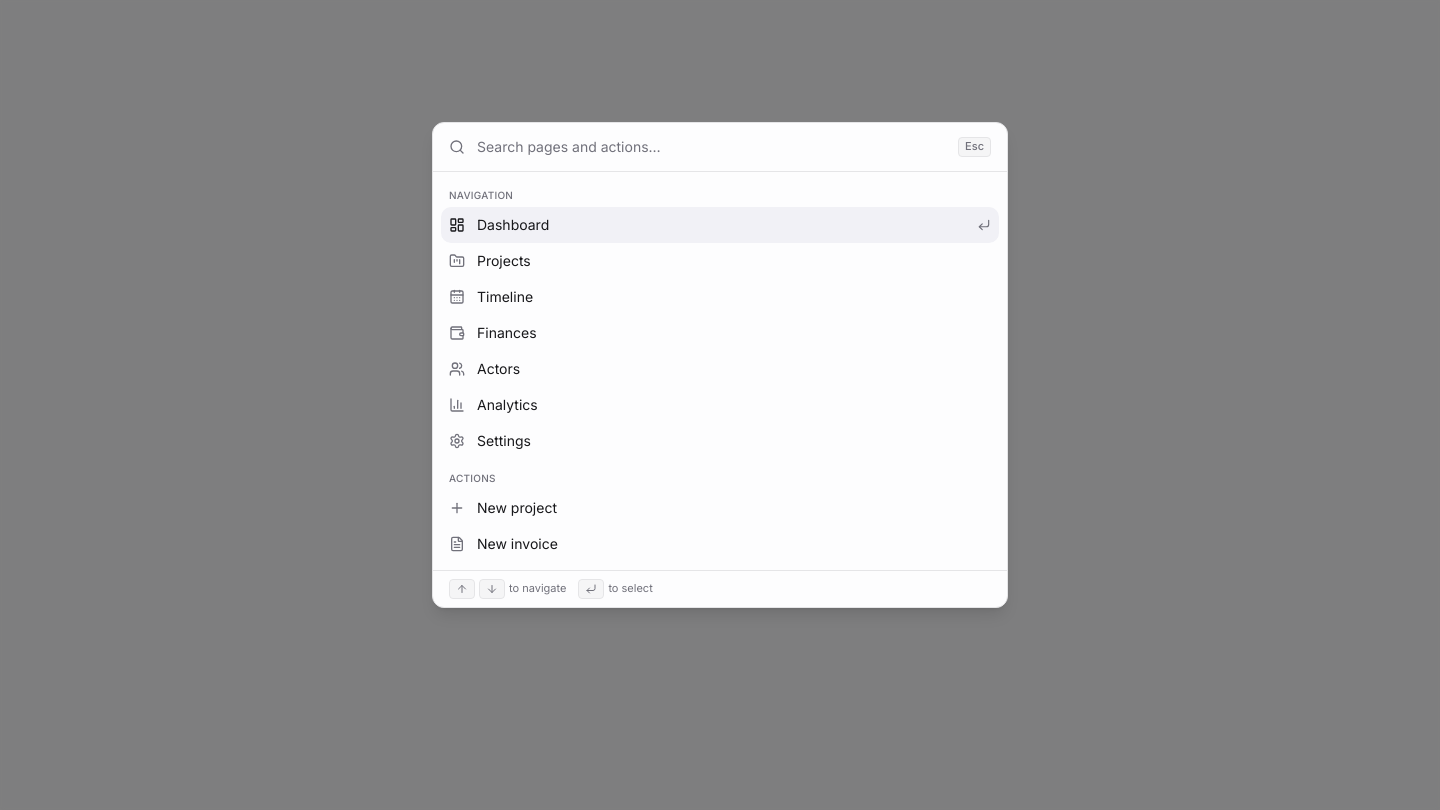
it: CommandPalette › shows an empty state when nothing matches
Type "zzzzzz" into the field with placeholder "Search pages and actions…" at (712, 146), box top-left (477, 122), bottom-right (946, 170)
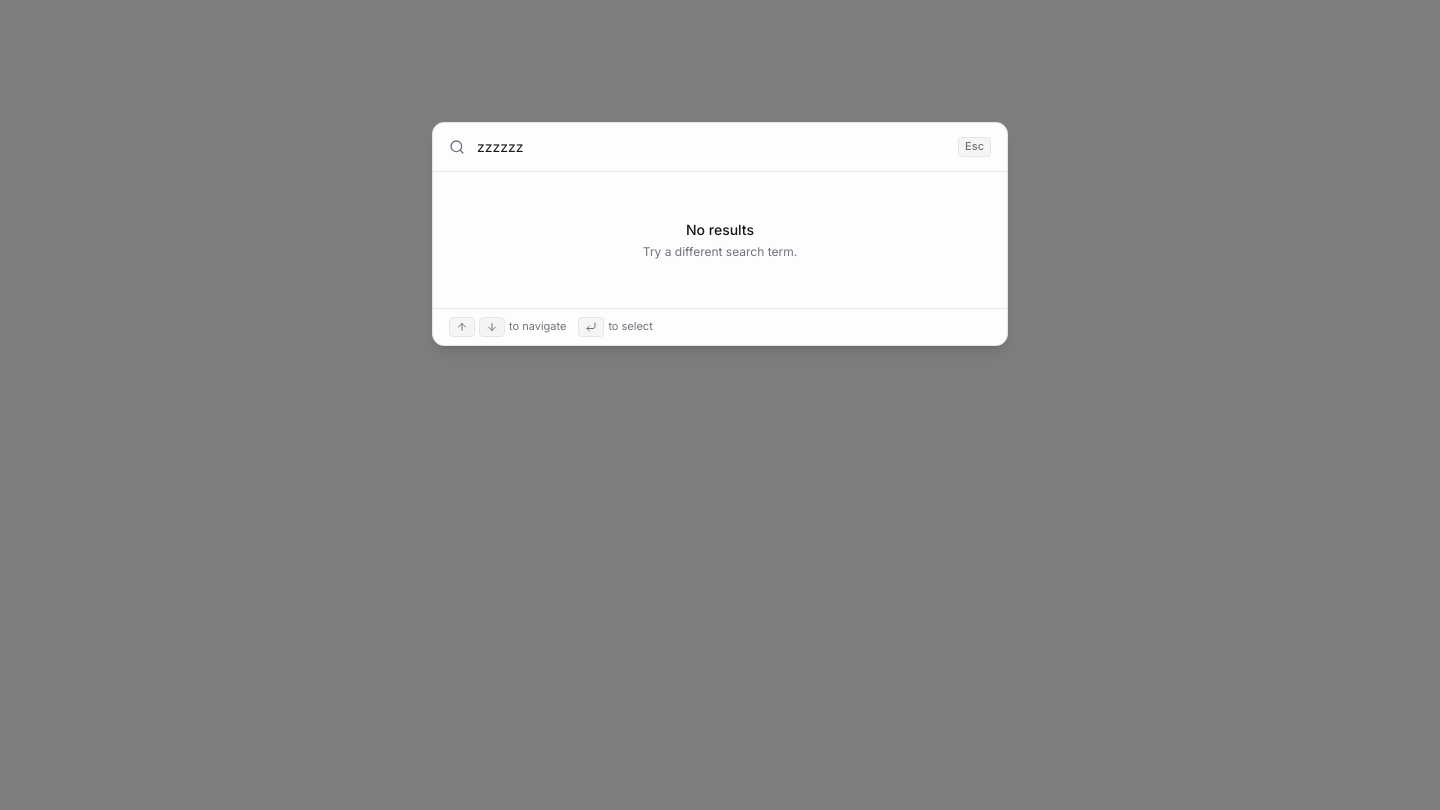
Now the text "No results" is shown, box top-left (686, 220), bottom-right (754, 238)
